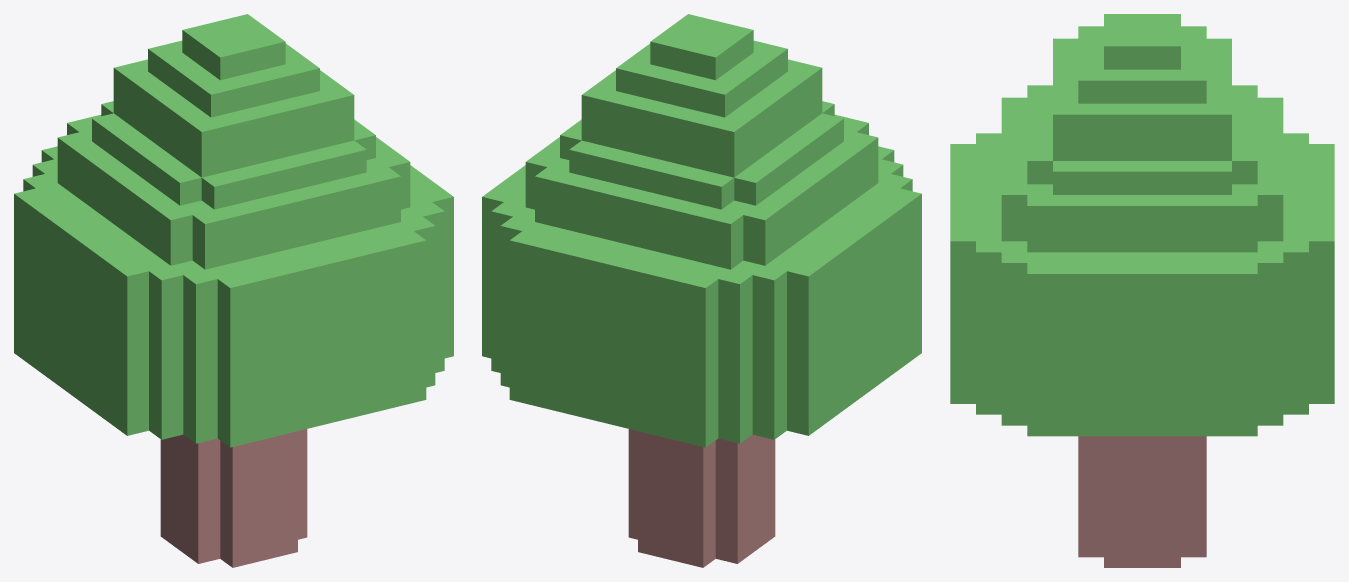
Rendered from tree.obj.
The picture shows the model from 3 angles, left to right: view 1: azimuth 30°, elevation 25°; view 2: azimuth 150°, elevation 25°; view 3: azimuth 270°, elevation 25°; orthographic projection.
Bounding box in the file's own units: 1.5 × 2.2 × 1.5.
Materials: 1 (1 with a texture image).
